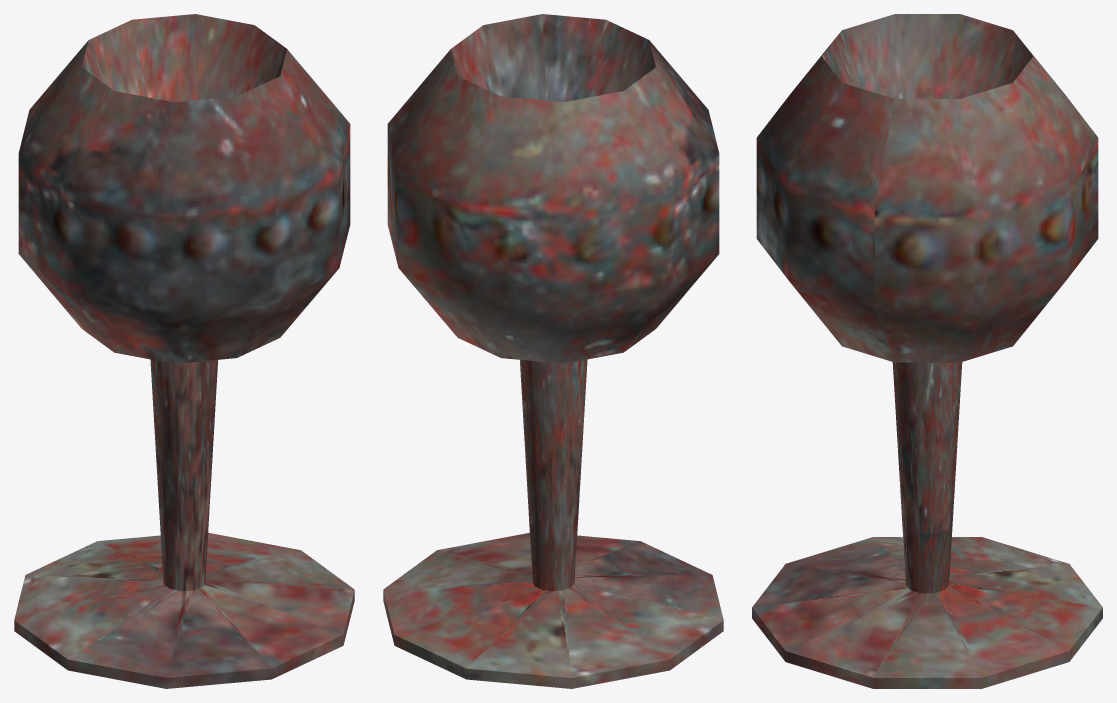
The model's file is CupGoblet.FBX.
3 renders of one model, left to right at view 1: azimuth 30°, elevation 25°; view 2: azimuth 150°, elevation 25°; view 3: azimuth 270°, elevation 25°, orthographic.
Visible parts, largest first — view 1: CupGoblet; view 2: CupGoblet; view 3: CupGoblet.
Part boxes in pixels (x1,y1,x2,y2): CupGoblet: (14, 14, 354, 688); CupGoblet: (383, 14, 723, 688); CupGoblet: (752, 14, 1102, 688).
Size of the model in its own units: 0.2613 by 0.4856 by 0.2748.
1 material, 1 textured.
